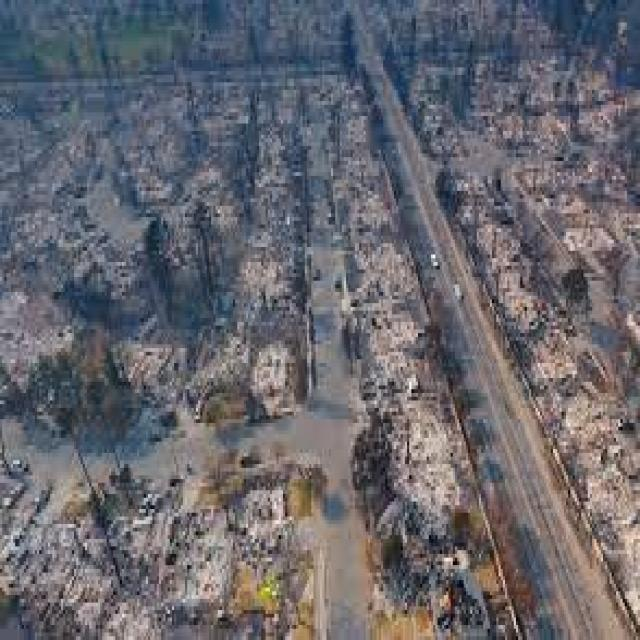Forest Fire: (204, 128, 513, 621)
